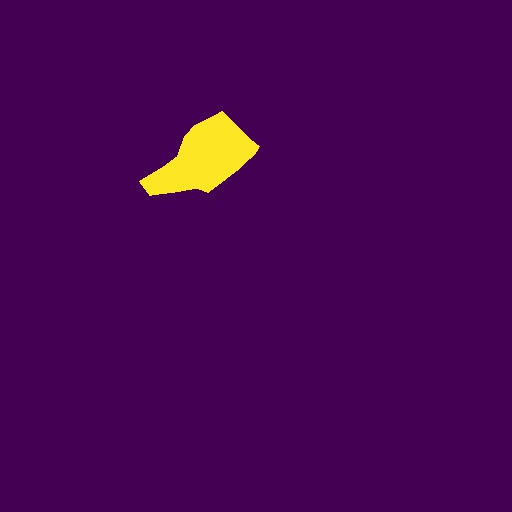Gliomia_tumour: (139, 111, 260, 196)
